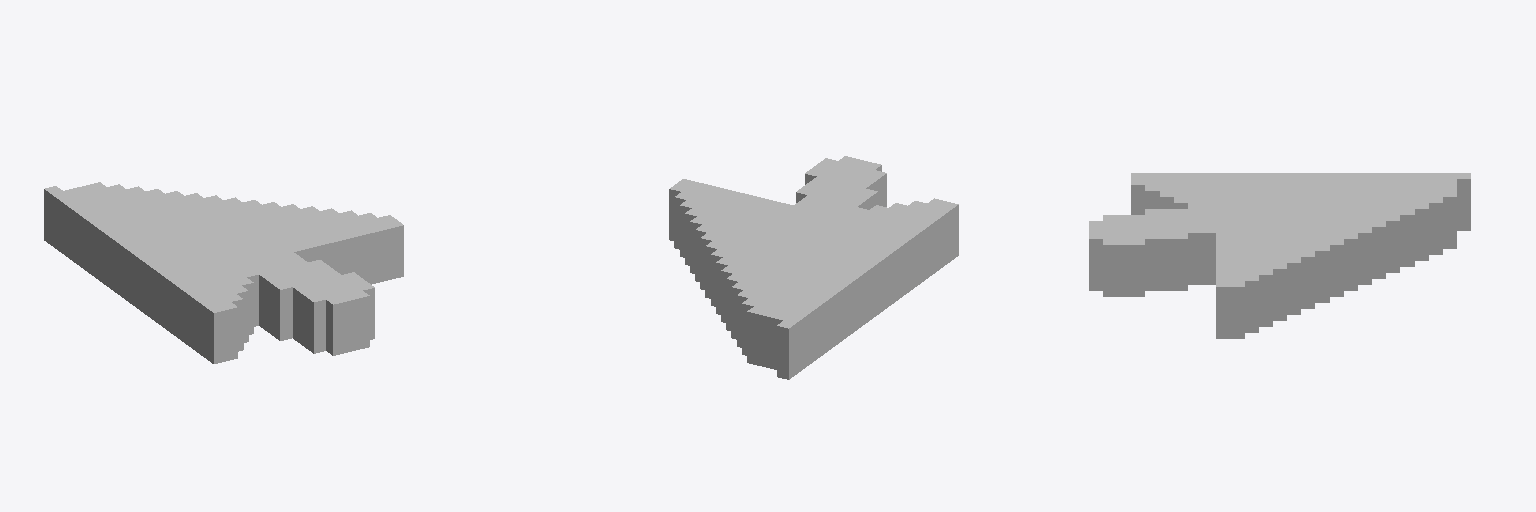
Rendered from enemy.obj.
3 renders of one model, left to right at view 1: azimuth 30°, elevation 25°; view 2: azimuth 150°, elevation 25°; view 3: azimuth 270°, elevation 25°, orthographic.
Parts seen in each view (by area): view 1: object 1; view 2: object 1; view 3: object 1.
Part boxes in pixels (left/top/right/bottom): object 1: left=44, top=182, right=403, bottom=363; object 1: left=669, top=156, right=958, bottom=379; object 1: left=1089, top=173, right=1470, bottom=338.
Size of the model in its own units: 1.9 by 0.4 by 2.7.